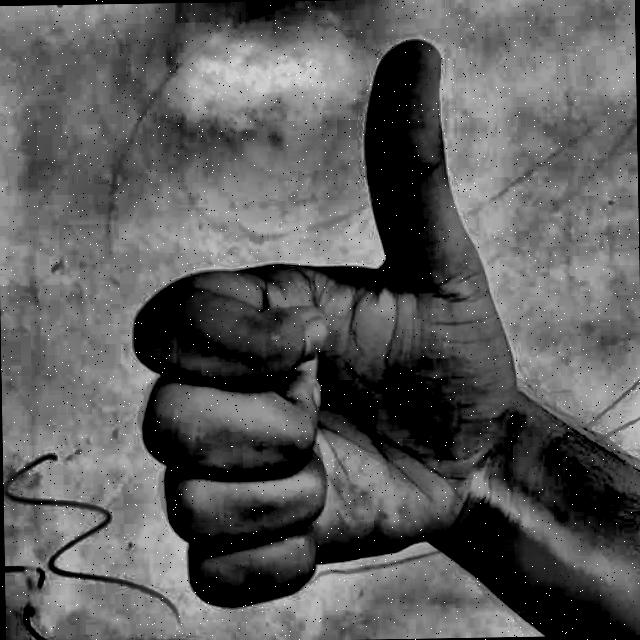Do: (56, 26, 540, 620)
